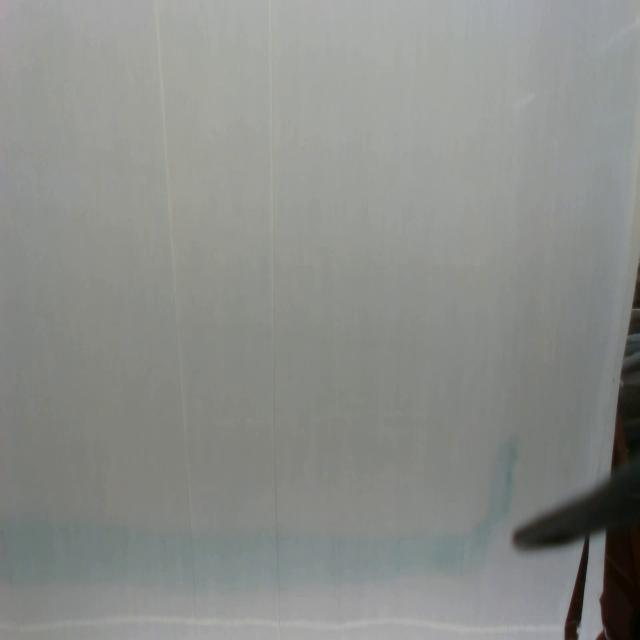color bleeding: (0, 431, 515, 587)
crease: (154, 0, 199, 636), (268, 1, 283, 626)
